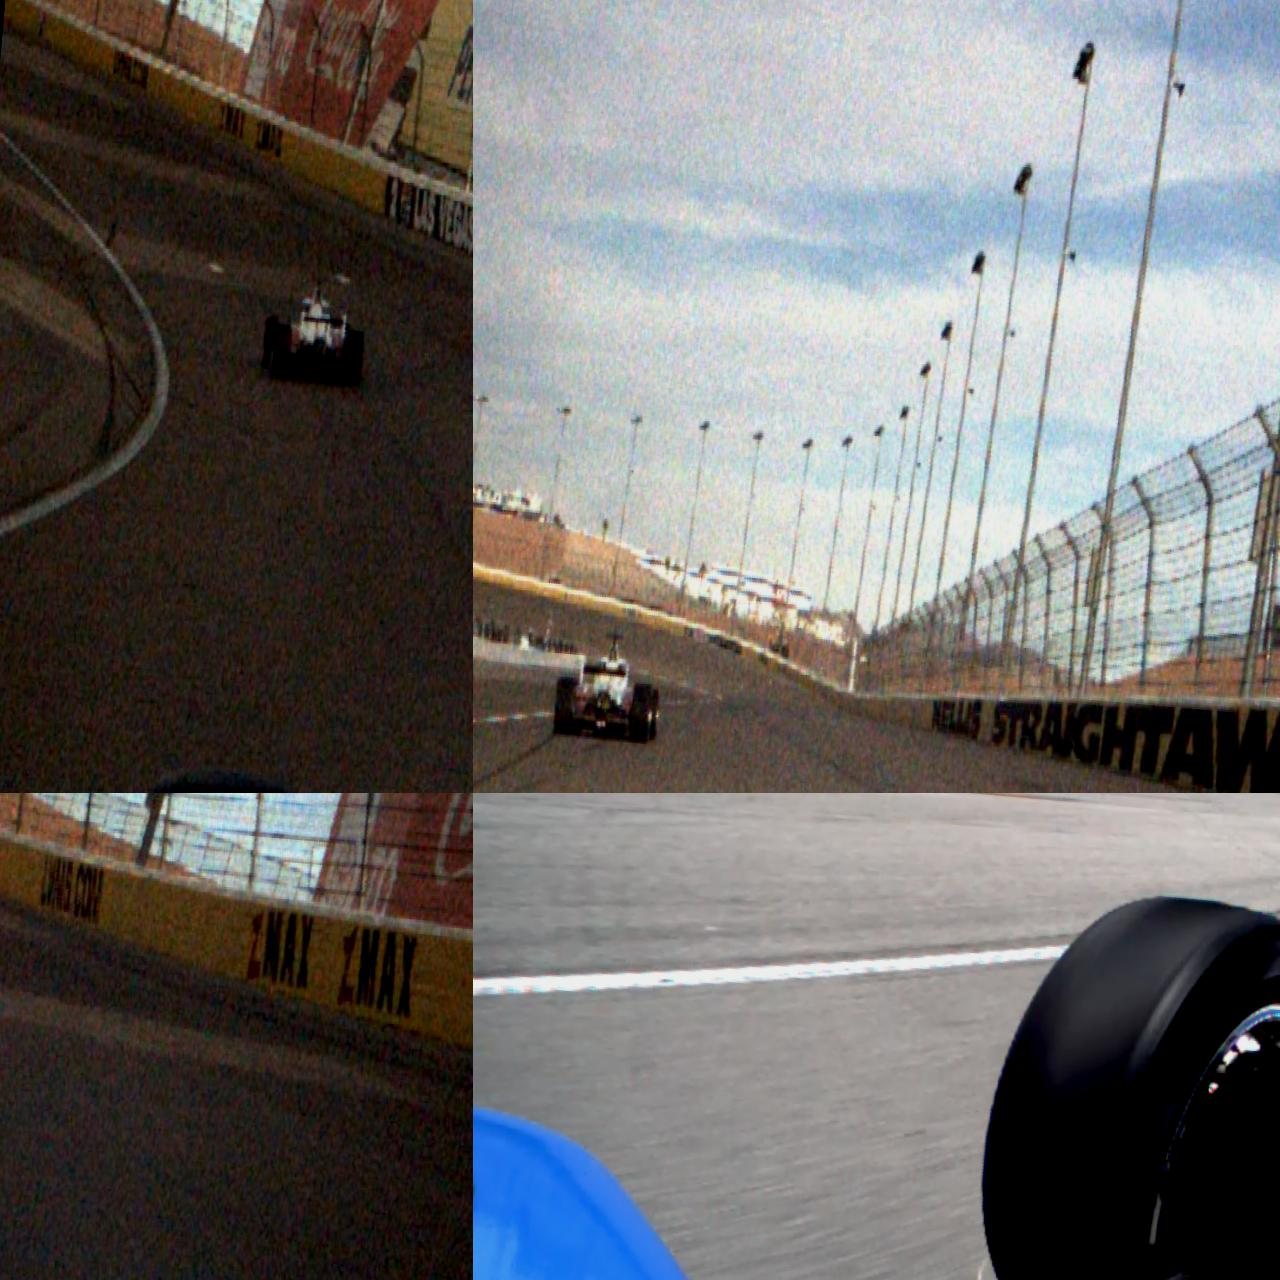AV: (552, 629, 666, 745), (260, 272, 370, 388)
Wheel: (962, 881, 1280, 1280), (553, 678, 579, 736), (629, 683, 654, 743), (268, 325, 293, 382), (343, 328, 366, 388), (263, 314, 281, 369), (644, 688, 661, 740)
